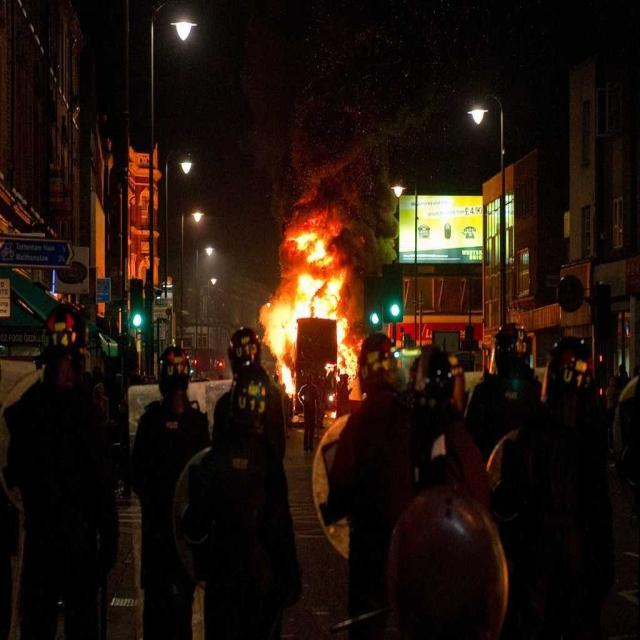Fire: (288, 274, 348, 336)
